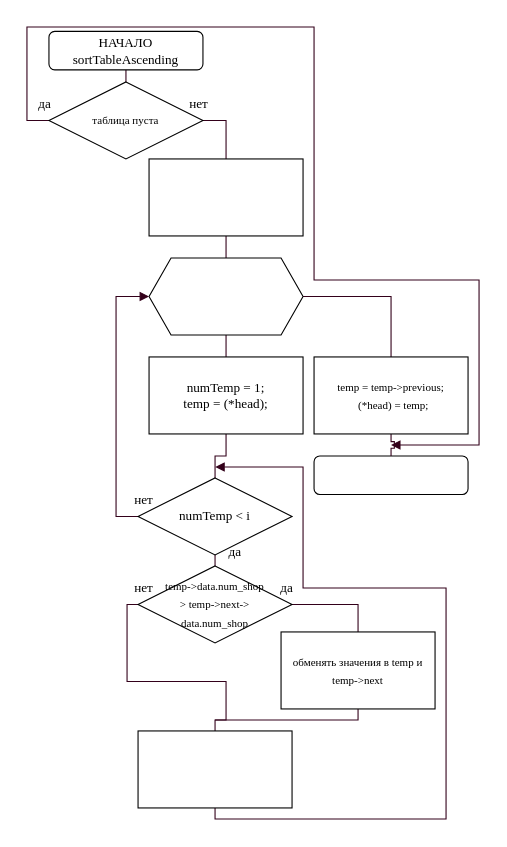
This 507x847 diagram has some shape labels left out. Each missing label, with the centre of its shape:
"i = kolElementsInTable; i > 1; i--" goes at pixel 225 296.
"kolElementsInTable = getNumElements(temp);" goes at pixel 225 197.
"numTemp++; temp = temp->next;" goes at pixel 214 769.
"КОНЕЦ sortTableAscending" goes at pixel 390 474.
